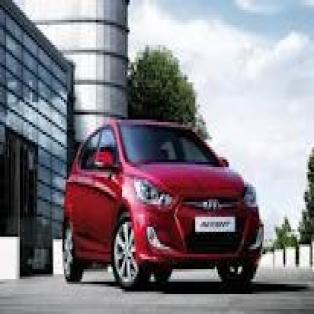Auto: (58, 114, 268, 292)
